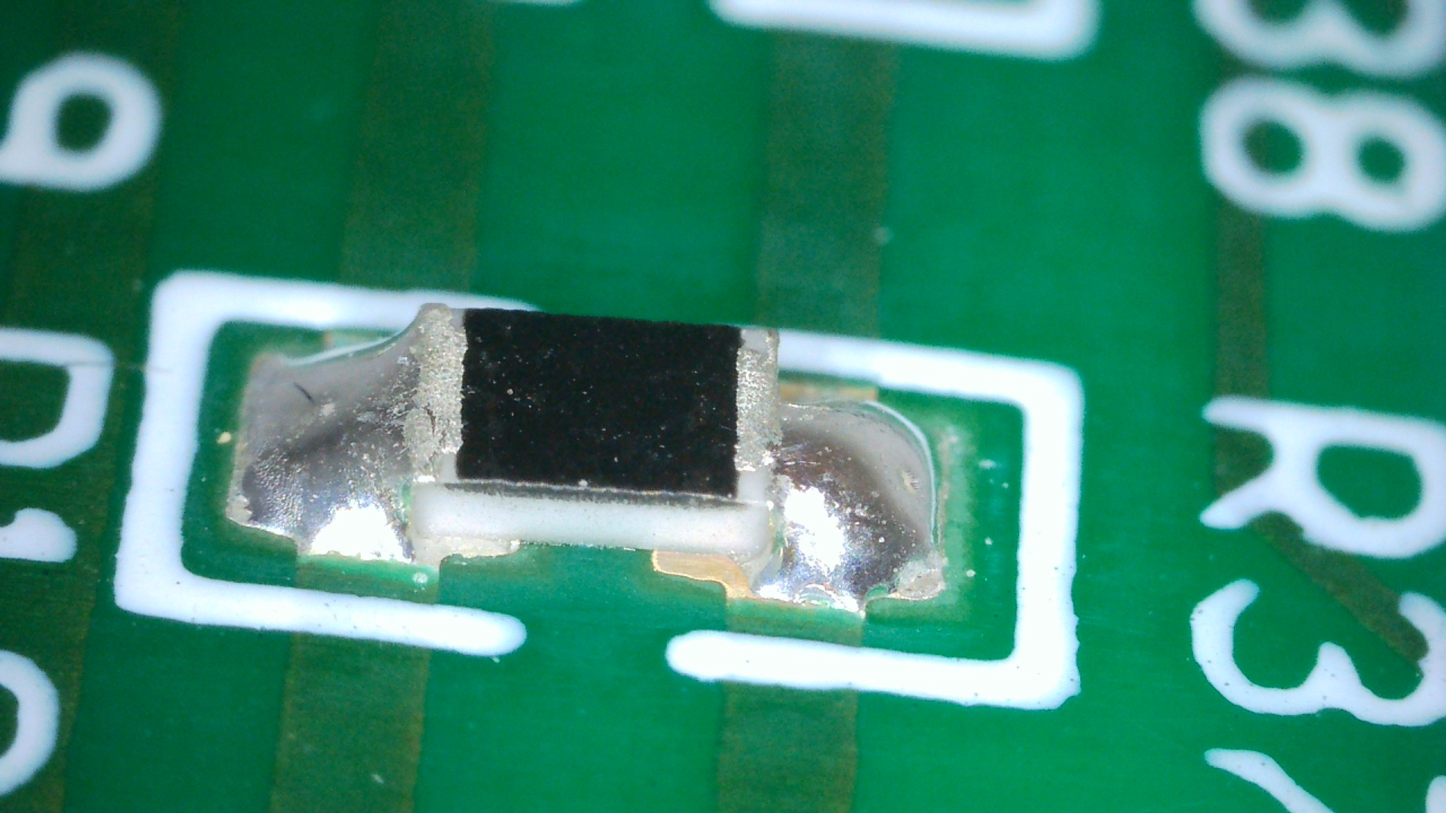NG: (734, 327, 943, 615)
OK: (233, 306, 465, 562)
